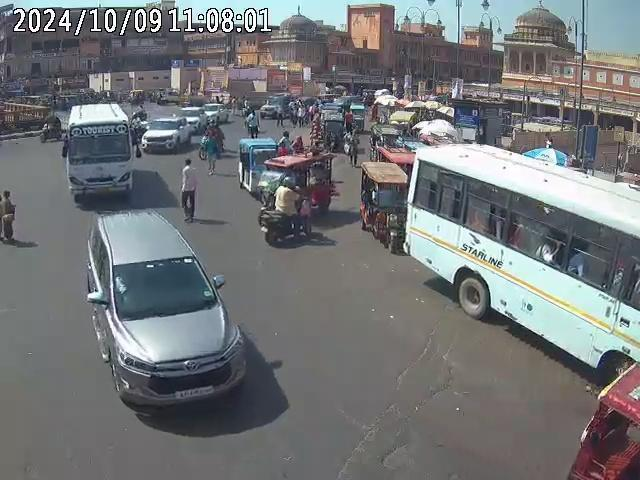auto: (358, 160, 408, 253), (267, 149, 335, 217), (236, 136, 278, 193), (320, 107, 344, 146)
bus: (402, 142, 640, 366), (61, 103, 138, 207)
car: (83, 206, 250, 419), (141, 115, 192, 154)
helmet: (283, 176, 298, 190)
license_plate: (174, 384, 216, 400)
person: (178, 159, 198, 223), (200, 121, 224, 174), (0, 189, 16, 243), (345, 128, 358, 166), (244, 108, 260, 137), (276, 131, 293, 155)
scooty-rider: (262, 176, 312, 242)
